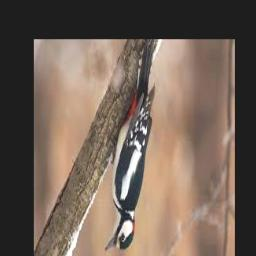Woodpecker: (104, 39, 155, 252)
